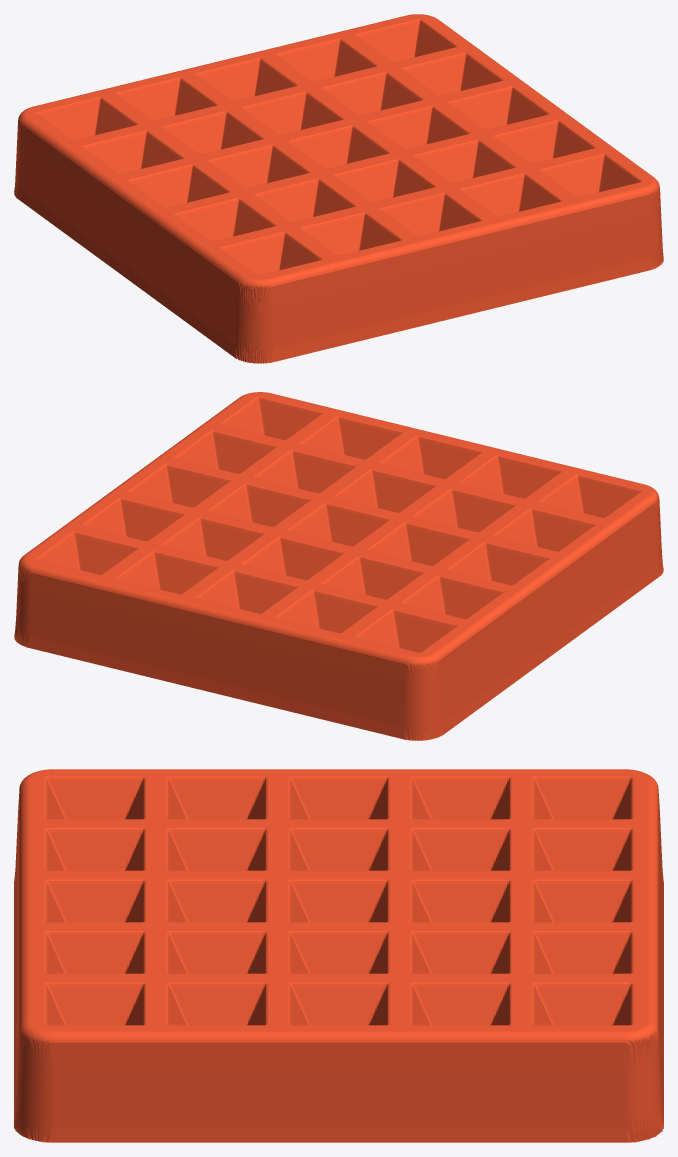
The model's file is mold.glb.
3 views of the same model, one above another, from view 1: azimuth 30°, elevation 25°; view 2: azimuth 150°, elevation 25°; view 3: azimuth 270°, elevation 25° (orthographic). The views are drawn at different scales.
Parts seen in each view (by area): view 1: geometry_0; view 2: geometry_0; view 3: geometry_0.
Boxes of the visible parts, x1,y1,x2,y2 form: geometry_0: [14, 14, 663, 363]; geometry_0: [14, 392, 663, 740]; geometry_0: [14, 769, 663, 1142].
Size of the model in its own units: 0.1483 by 0.0263 by 0.1483.
